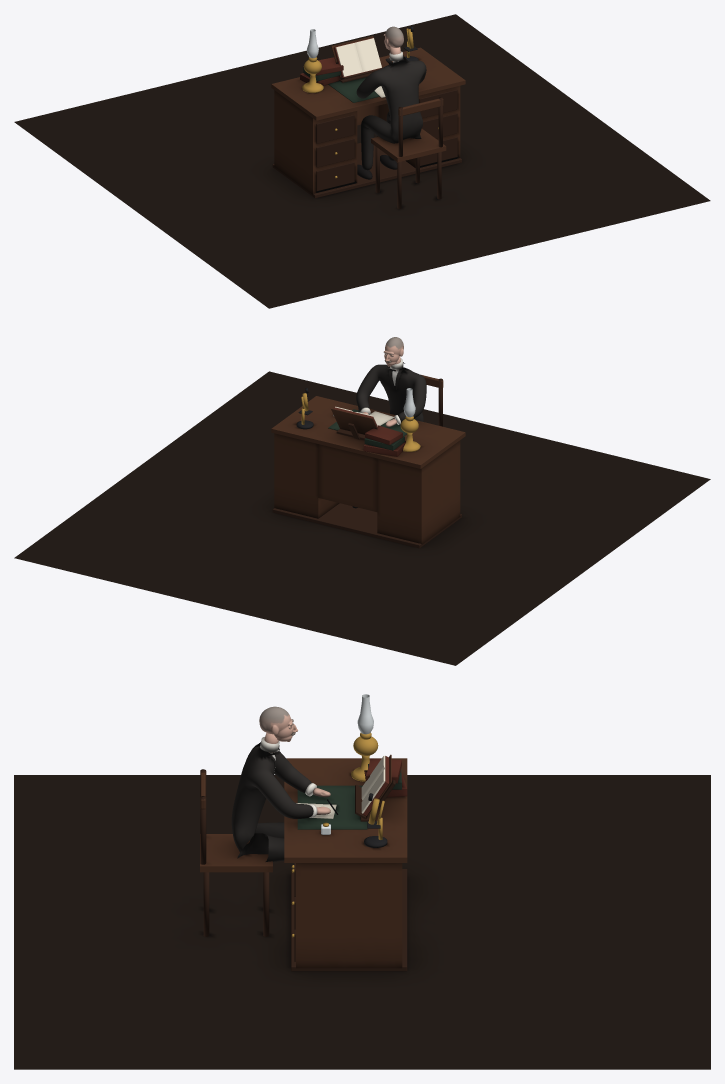
Rendered from study.glb.
3 views of the same model, one above another, from view 1: azimuth 30°, elevation 25°; view 2: azimuth 150°, elevation 25°; view 3: azimuth 270°, elevation 25° (orthographic). The views are drawn at different scales.
Parts seen in each view (by area): view 1: Floor, Pedestal-1, Suit, DeskTop, DeskPlinth, BookBlock, ChairSeat, Pedestal1, Drawer-11, Drawer-12, Drawer-10, Drawer12 (+3 smaller); view 2: Floor, Pedestal-1, DeskTop, Pedestal1, DeskBack, Suit, DeskPlinth, StandBoard; view 3: Floor, Pedestal1, DeskTop, Suit, Pad, ChairSeat, DeskPlinth, Head, BookBlock.
Boxes of the visible parts, x1,y1,x2,y2 form: Floor: [14, 14, 710, 308]; Pedestal-1: [274, 90, 357, 194]; Suit: [356, 60, 426, 170]; DeskTop: [271, 47, 465, 120]; DeskPlinth: [272, 142, 461, 198]; BookBlock: [335, 38, 381, 76]; ChairSeat: [371, 128, 446, 162]; Pedestal1: [377, 86, 460, 167]; Drawer-11: [316, 138, 354, 167]; Drawer-12: [316, 114, 354, 143]; Drawer-10: [316, 162, 354, 191]; Drawer12: [419, 89, 457, 117]; Floor: [14, 371, 710, 665]; Pedestal-1: [377, 440, 460, 544]; DeskTop: [271, 396, 465, 468]; Pedestal1: [274, 433, 339, 518]; DeskBack: [318, 444, 377, 511]; Suit: [356, 364, 426, 422]; DeskPlinth: [272, 503, 461, 548]; StandBoard: [331, 408, 377, 434]; Floor: [14, 775, 710, 1069]; Pedestal1: [296, 863, 402, 968]; DeskTop: [284, 758, 407, 862]; Suit: [231, 744, 313, 861]; Pad: [297, 785, 367, 829]; ChairSeat: [200, 834, 272, 872]; DeskPlinth: [291, 869, 407, 971]; Head: [259, 706, 297, 741]; BookBlock: [361, 756, 385, 813].
Bounding box in the file's own units: 4.2 × 1.43 × 4.2.
